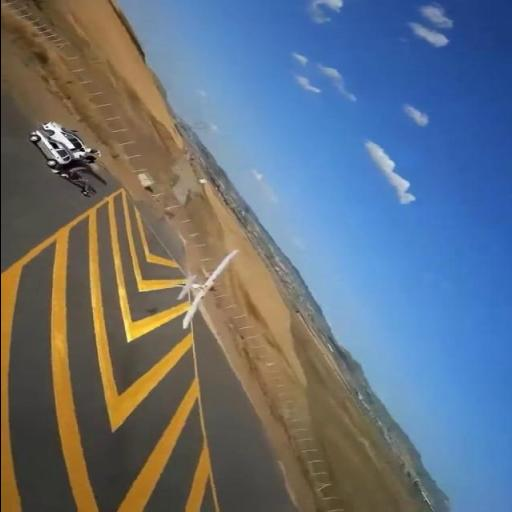uav: (178, 250, 238, 328)
